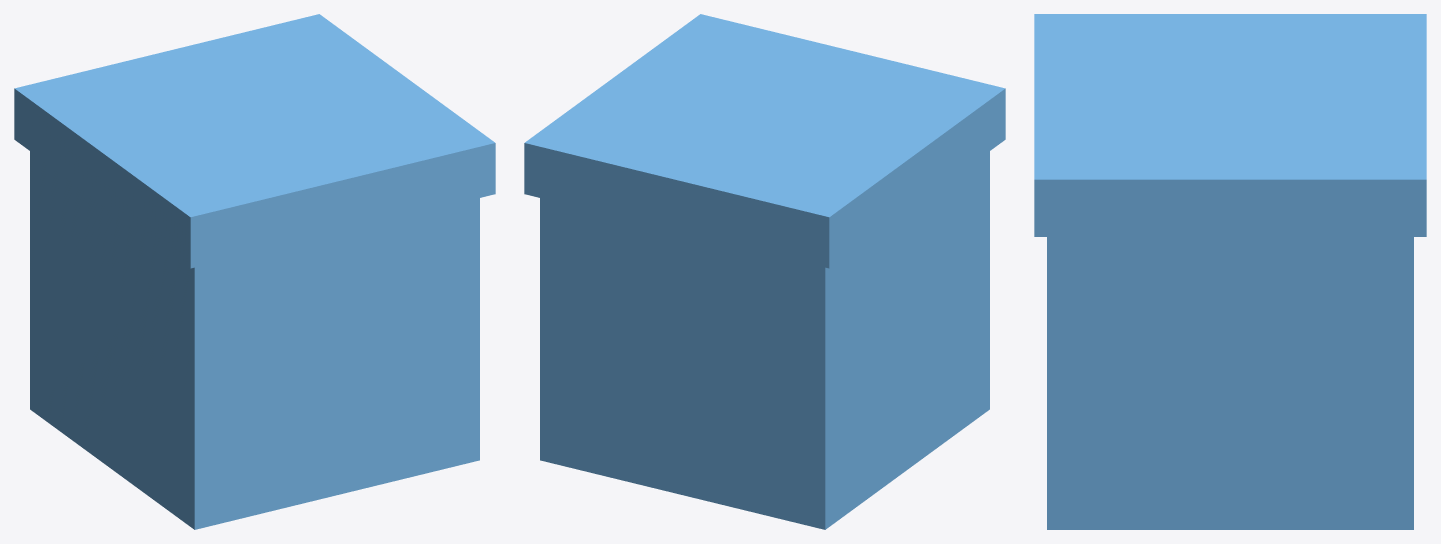
The model's file is grass_center.fbx.
3 renders of one model, left to right at view 1: azimuth 30°, elevation 25°; view 2: azimuth 150°, elevation 25°; view 3: azimuth 270°, elevation 25°, orthographic. The views are drawn at different scales.
Visible parts, largest first — view 1: grass_center; view 2: grass_center; view 3: grass_center.
Part boxes in pixels (left/top/right/bottom): grass_center: left=14, top=14, right=495, bottom=529; grass_center: left=524, top=14, right=1005, bottom=529; grass_center: left=1034, top=14, right=1426, bottom=529.
Bounding box in the file's own units: 800 × 800 × 800.
